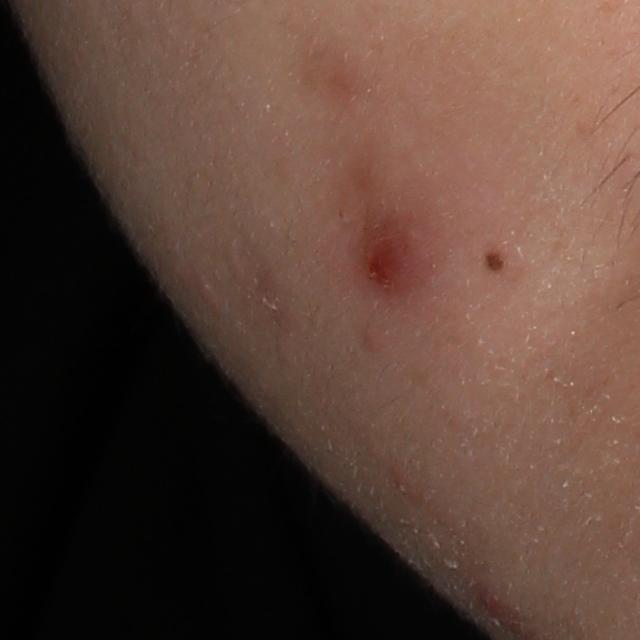nevus: (483, 250, 505, 273)
